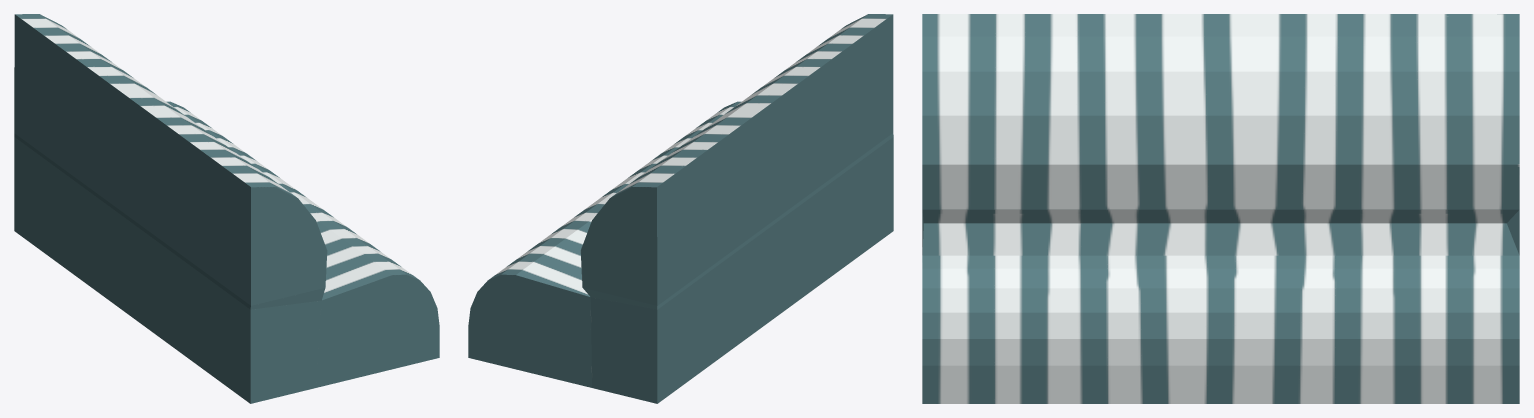
File: Sofá.fbx
3 renders of one model, left to right at view 1: azimuth 30°, elevation 25°; view 2: azimuth 150°, elevation 25°; view 3: azimuth 270°, elevation 25°, orthographic. The views are drawn at different scales.
Visible parts, largest first — view 1: Cube.005; view 2: Cube.005; view 3: Cube.005.
Boxes of the visible parts, x1,y1,x2,y2 form: Cube.005: [14, 14, 439, 403]; Cube.005: [468, 14, 893, 403]; Cube.005: [922, 14, 1519, 403].
Size of the model in its own units: 110 by 120 by 237.
